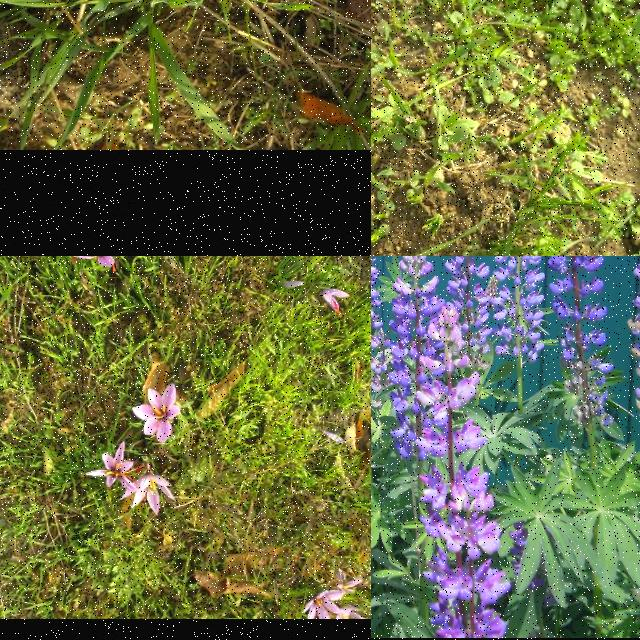flower: (86, 442, 146, 493), (133, 384, 181, 444), (119, 474, 178, 516), (303, 590, 347, 620), (65, 256, 135, 273), (322, 288, 351, 314), (335, 607, 367, 619), (283, 280, 305, 290)
